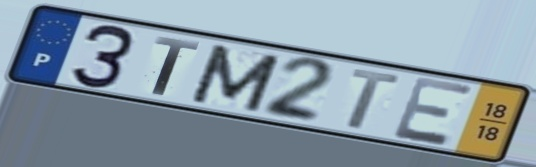2: (261, 55, 339, 123)
3: (66, 22, 138, 90)
E: (389, 74, 478, 149)
M: (186, 41, 286, 115)
T: (346, 67, 404, 132), (151, 33, 203, 98)
